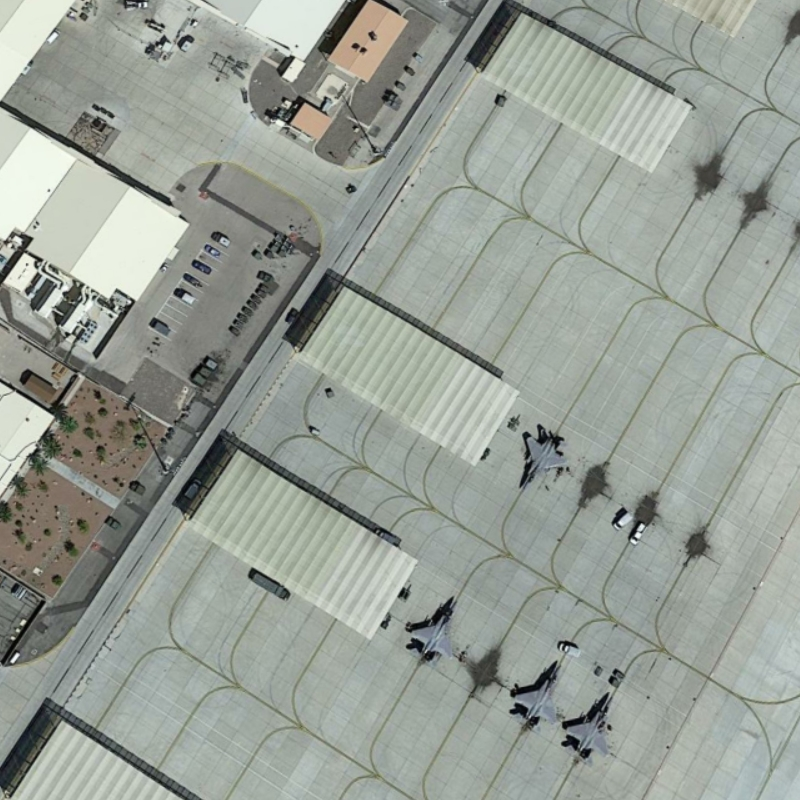A13: (560, 690, 617, 766), (508, 658, 564, 735), (406, 595, 463, 669), (519, 426, 571, 498)
